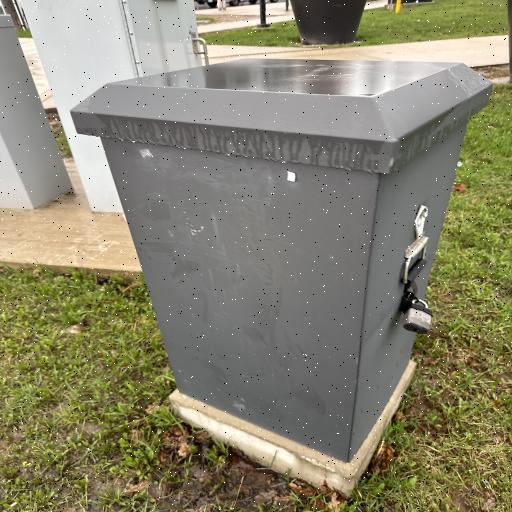Electrical Box: (68, 59, 496, 464)
